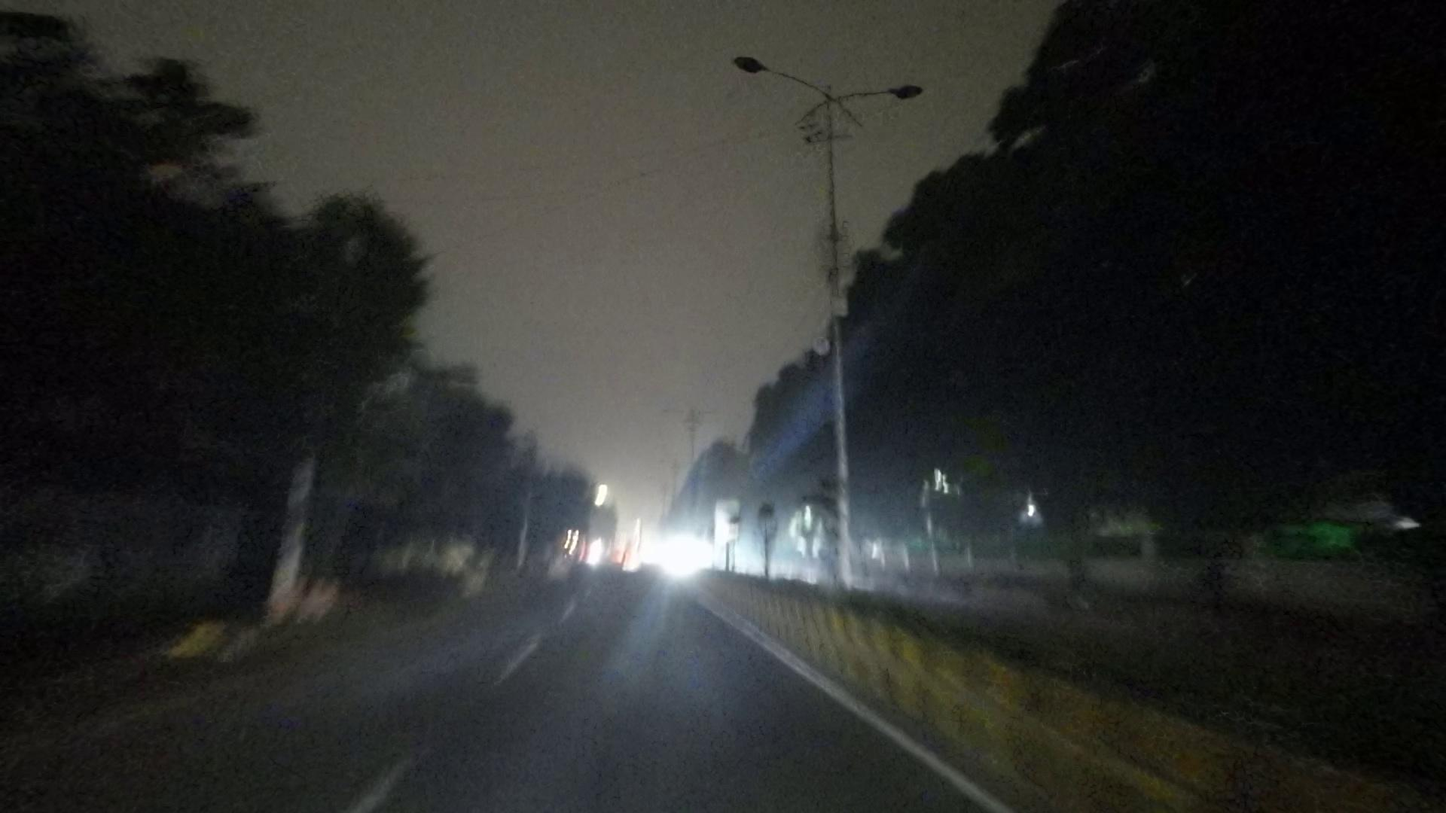streetlight: (718, 49, 829, 103), (839, 70, 932, 115)
